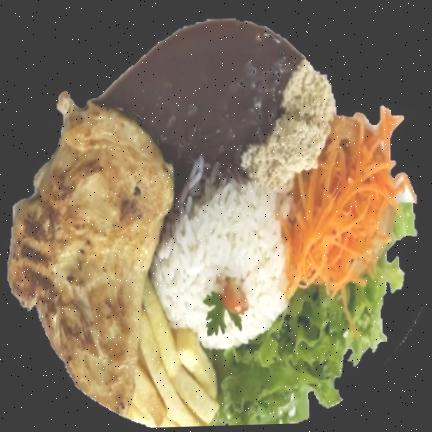beans: (96, 20, 304, 251)
carrot: (284, 106, 408, 300)
chicken: (8, 87, 173, 415)
potato: (129, 272, 216, 428)
rice: (148, 181, 287, 349)
salad: (205, 203, 417, 426)
tomato: (221, 282, 247, 313)
